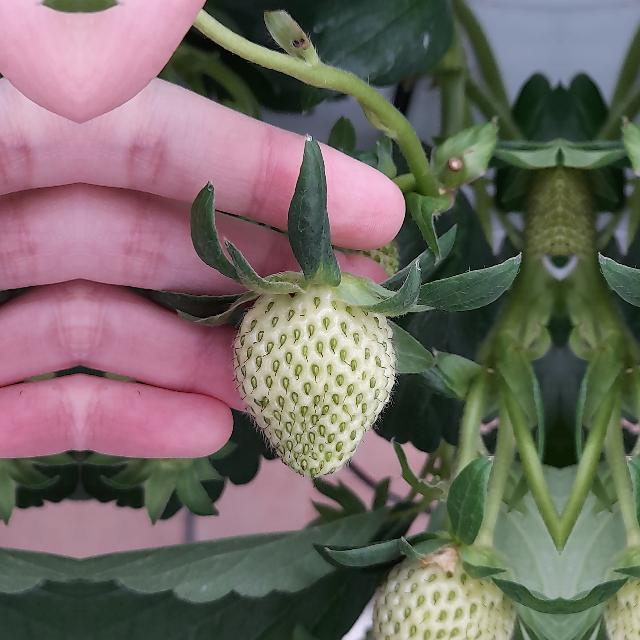Health_25: (233, 286, 395, 477)
